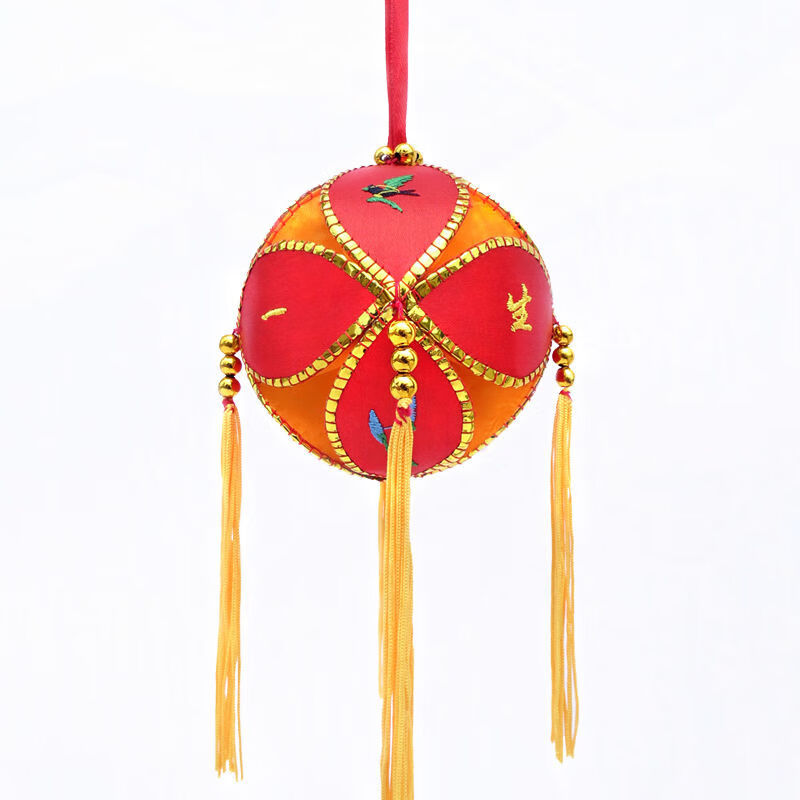xiuqiu: (237, 161, 554, 477)
